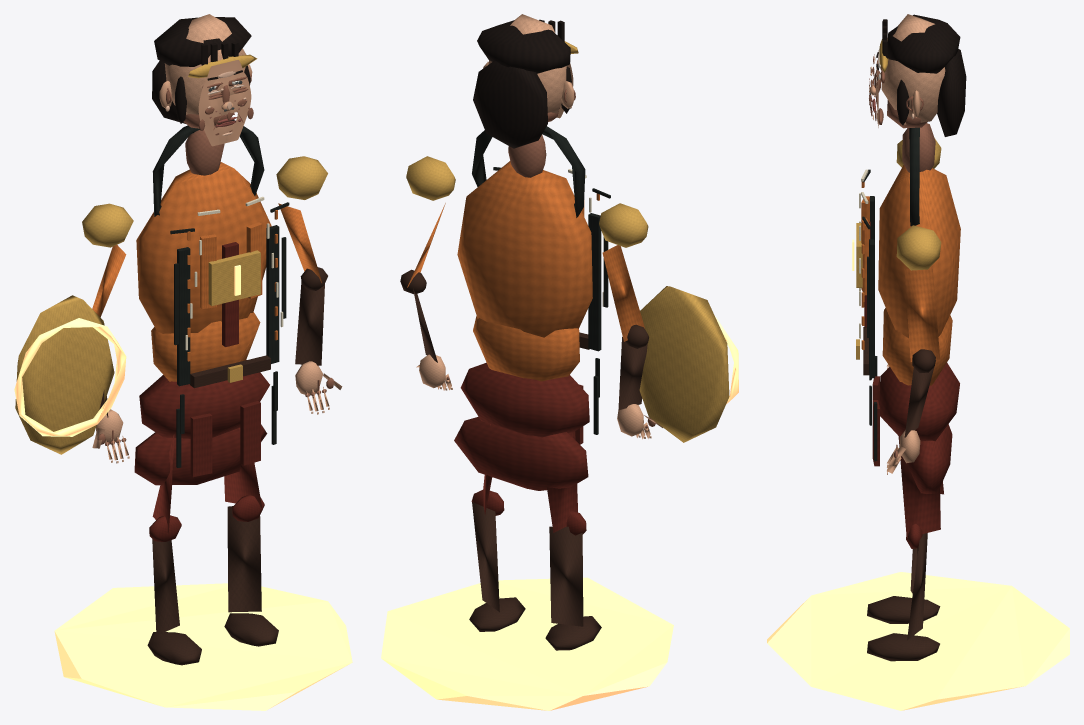
File: ember-guardian-lod1.glb
3 views of the same model, side by side, from view 1: azimuth 30°, elevation 25°; view 2: azimuth 150°, elevation 25°; view 3: azimuth 270°, elevation 25° (orthographic).
Parts seen in each view (by area): view 1: ember-guardian_table_scale_base_lod1, ember-guardian_ribcage_lod1, ember-guardian_round_shield_lod1, ember-guardian_pelvis_lod1, ember-guardian_coat_tail_lod1, ember-guardian_abdomen_lod1, ember-guardian_right_shin_lod1, ember-guardian_shield_ring_lod1, ember-guardian_face_sculpt_surface_lod1, ember-guardian_hair_cap_lod1, ember-guardian_head_lod1, ember-guardian_chest_armor_plate_lod1 (+25 smaller); view 2: ember-guardian_table_scale_base_lod1, ember-guardian_ribcage_lod1, ember-guardian_round_shield_lod1, ember-guardian_pelvis_lod1, ember-guardian_coat_tail_lod1, ember-guardian_back_hair_mass_lod1, ember-guardian_abdomen_lod1, ember-guardian_hair_cap_lod1, ember-guardian_left_shin_lod1, ember-guardian_right_shin_lod1, ember-guardian_left_upper_arm_lod1, ember-guardian_raised_collar_lod1 (+11 smaller); view 3: ember-guardian_table_scale_base_lod1, ember-guardian_ribcage_lod1, ember-guardian_pelvis_lod1, ember-guardian_hair_cap_lod1, ember-guardian_head_lod1, ember-guardian_right_upper_arm_lod1, ember-guardian_abdomen_lod1, ember-guardian_coat_tail_lod1, ember-guardian_back_hair_mass_lod1, ember-guardian_right_thigh_lod1, ember-guardian_right_boot_lod1, ember-guardian_right_shoulder_lod1 (+7 smaller).
Part boxes in pixels (x1,y1,x2,y2): ember-guardian_table_scale_base_lod1: [54, 583, 352, 710]; ember-guardian_ribcage_lod1: [136, 162, 271, 333]; ember-guardian_round_shield_lod1: [15, 295, 114, 454]; ember-guardian_pelvis_lod1: [139, 360, 269, 438]; ember-guardian_coat_tail_lod1: [134, 424, 267, 485]; ember-guardian_abdomen_lod1: [151, 312, 260, 381]; ember-guardian_right_shin_lod1: [227, 506, 261, 612]; ember-guardian_shield_ring_lod1: [14, 318, 126, 436]; ember-guardian_face_sculpt_surface_lod1: [198, 60, 251, 146]; ember-guardian_hair_cap_lod1: [154, 17, 251, 66]; ember-guardian_head_lod1: [164, 14, 246, 114]; ember-guardian_chest_armor_plate_lod1: [208, 250, 260, 305]; ember-guardian_table_scale_base_lod1: [381, 577, 673, 710]; ember-guardian_ribcage_lod1: [457, 161, 592, 337]; ember-guardian_round_shield_lod1: [639, 286, 729, 442]; ember-guardian_pelvis_lod1: [460, 362, 589, 437]; ember-guardian_coat_tail_lod1: [454, 416, 588, 490]; ember-guardian_back_hair_mass_lod1: [473, 61, 547, 148]; ember-guardian_abdomen_lod1: [473, 316, 579, 381]; ember-guardian_hair_cap_lod1: [477, 20, 570, 73]; ember-guardian_left_shin_lod1: [549, 526, 583, 626]; ember-guardian_right_shin_lod1: [472, 502, 499, 612]; ember-guardian_left_upper_arm_lod1: [602, 245, 644, 341]; ember-guardian_raised_collar_lod1: [472, 126, 585, 217]; ember-guardian_table_scale_base_lod1: [767, 572, 1069, 710]; ember-guardian_ribcage_lod1: [878, 165, 960, 338]; ember-guardian_pelvis_lod1: [879, 363, 959, 441]; ember-guardian_hair_cap_lod1: [887, 14, 960, 73]; ember-guardian_head_lod1: [881, 14, 945, 124]; ember-guardian_right_upper_arm_lod1: [904, 266, 940, 361]; ember-guardian_abdomen_lod1: [882, 308, 952, 385]; ember-guardian_coat_tail_lod1: [908, 424, 952, 493]; ember-guardian_back_hair_mass_lod1: [937, 49, 966, 136]; ember-guardian_right_thigh_lod1: [898, 435, 940, 537]; ember-guardian_right_boot_lod1: [867, 633, 939, 661]; ember-guardian_right_shoulder_lod1: [896, 225, 941, 270].
Size of the model in its own units: 1.08 by 1.97 by 0.8602.
Materials: 17 (15 with a texture image).
